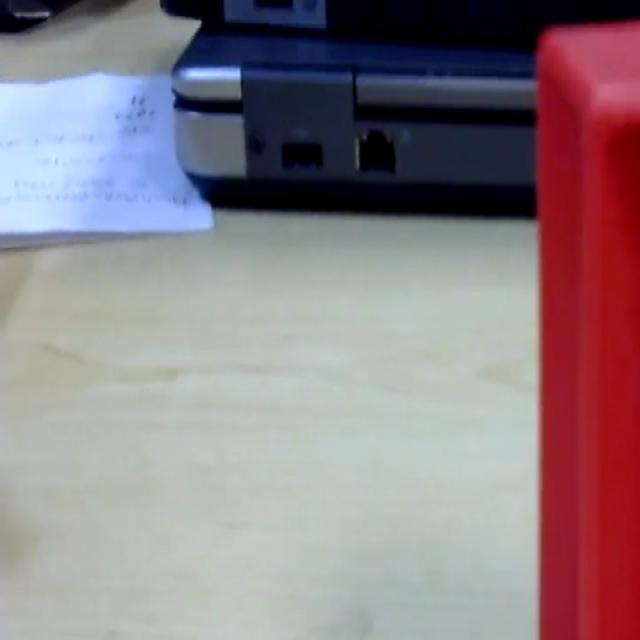red_block: (534, 17, 639, 636)
